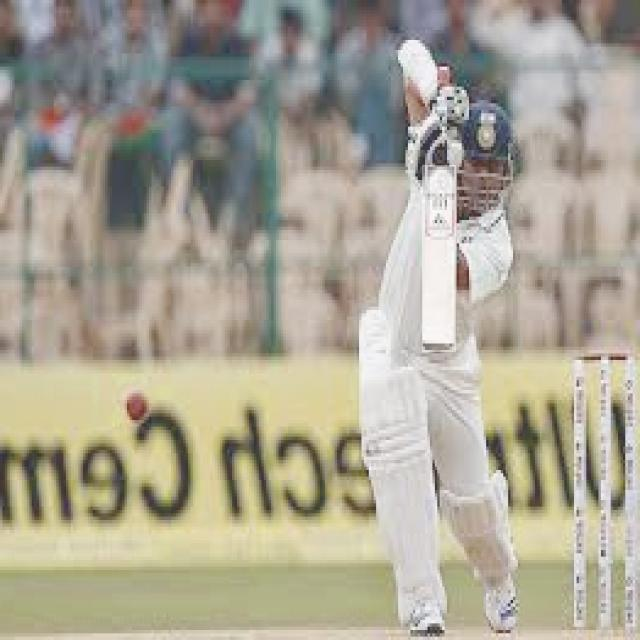bat: (420, 168, 460, 355)
toe: (420, 341, 460, 354)
